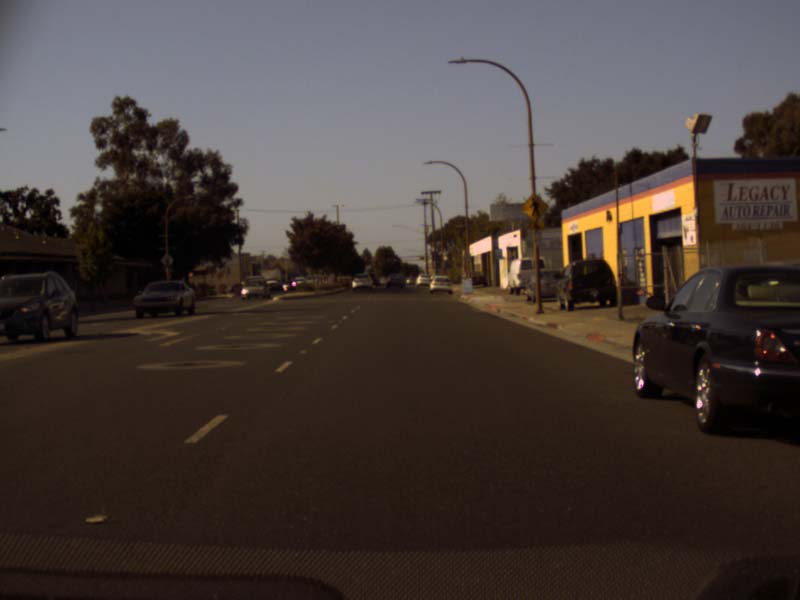Yellow: (186, 270, 194, 279)
